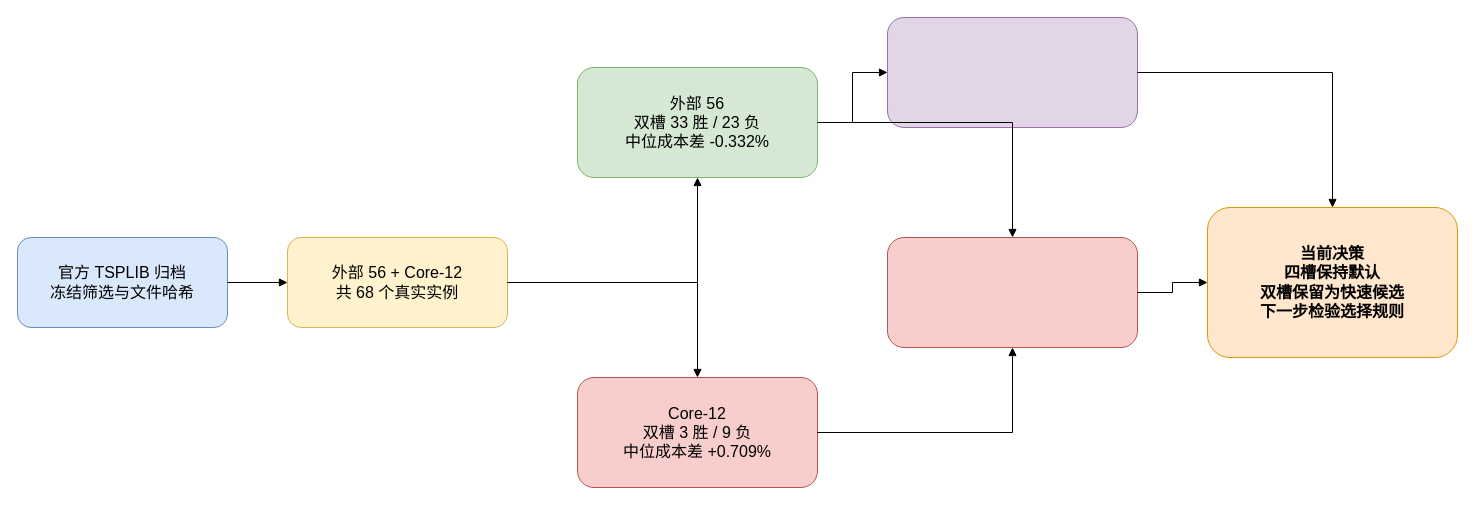
This 1475x505 diagram has some shape labels left out. The shapes that lost their labels are listed below. From the top down, each one's centre as x and y in pixels, then its label:
At (1012,72): "机制证据 边长波动 ρ=0.70，稳定 交叉率 ρ=0.16，未确认".
At (1012,292): "合并 68 36 胜 / 32 负，p=0.716 不能普遍替换四槽".
